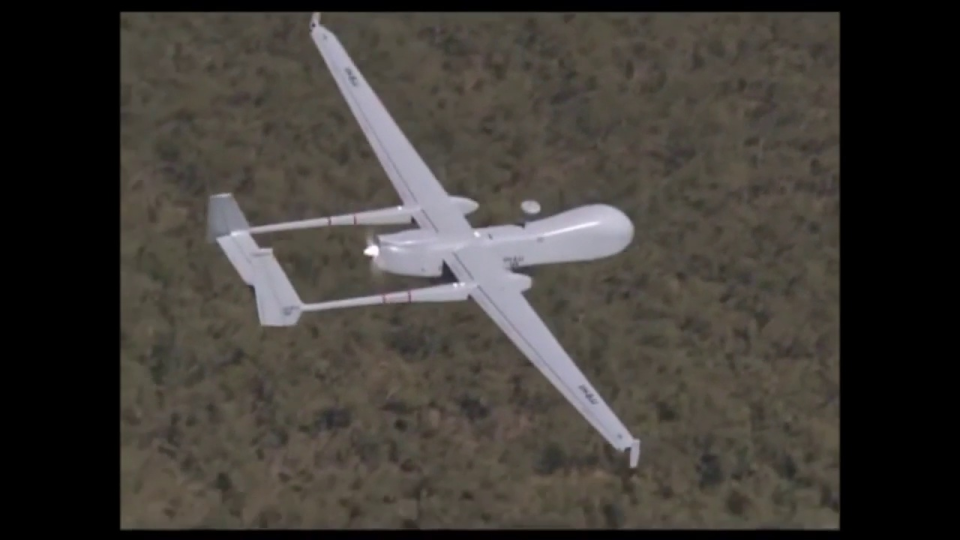military drone: (205, 12, 639, 468)
